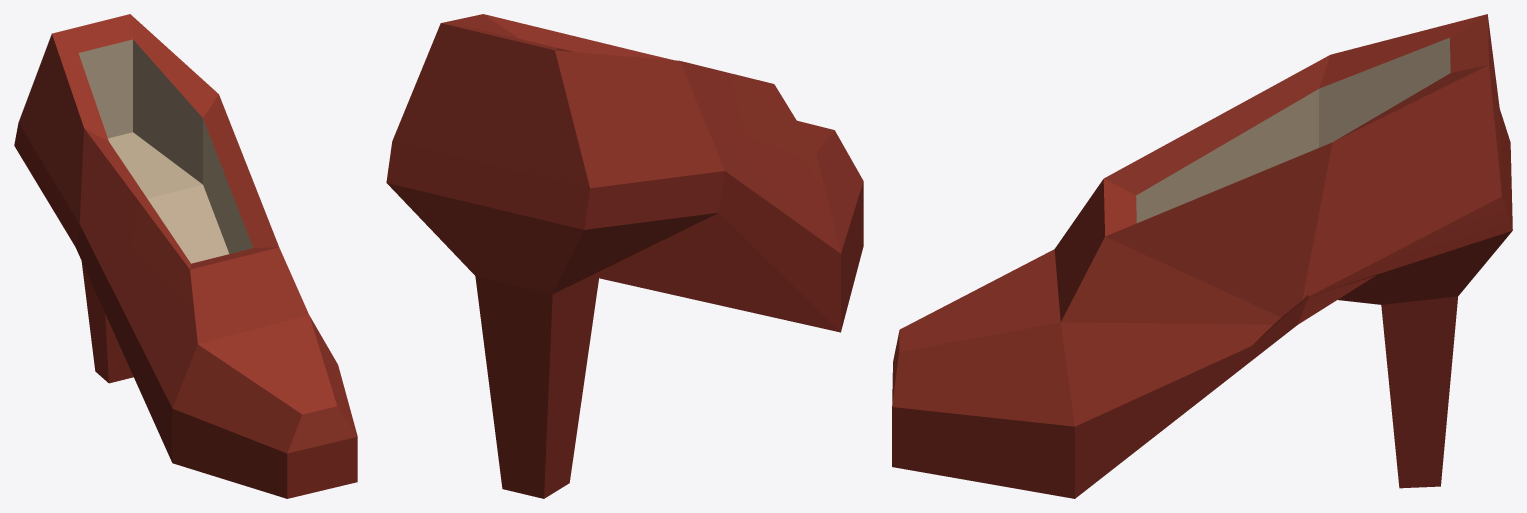
Rendered from SM_Prop_Clothes_Shoe_08.obj.
3 views of the same model, side by side, from view 1: azimuth 30°, elevation 25°; view 2: azimuth 150°, elevation 25°; view 3: azimuth 270°, elevation 25° (orthographic). The views are drawn at different scales.
Parts seen in each view (by area): view 1: SM_Prop_Clothes_Shoe_08_0; view 2: SM_Prop_Clothes_Shoe_08_0; view 3: SM_Prop_Clothes_Shoe_08_0.
Part boxes in pixels (bbox=[...]): SM_Prop_Clothes_Shoe_08_0: bbox=[14, 14, 357, 498]; SM_Prop_Clothes_Shoe_08_0: bbox=[386, 14, 863, 498]; SM_Prop_Clothes_Shoe_08_0: bbox=[892, 14, 1512, 498].
Bounding box in the file's own units: 0.1291 × 0.2328 × 0.2992.
1 material, 1 textured.
